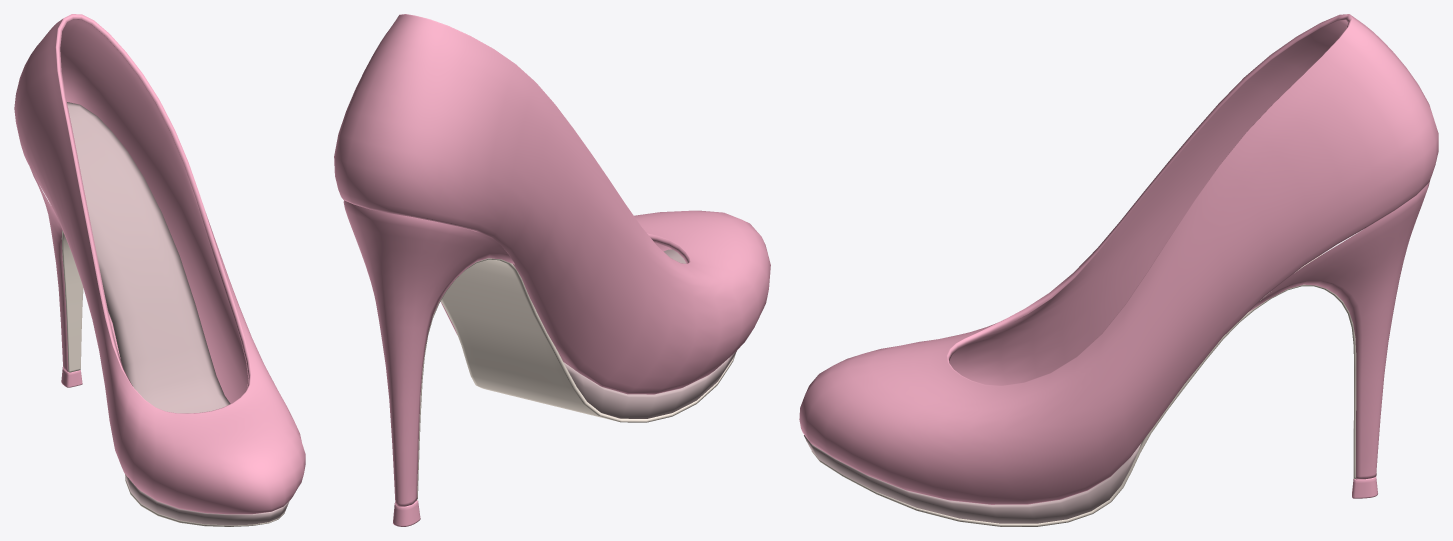
The model's file is classic-pump.glb.
The picture shows the model from 3 angles, left to right: view 1: azimuth 30°, elevation 25°; view 2: azimuth 150°, elevation 25°; view 3: azimuth 270°, elevation 25°; orthographic projection. The views are drawn at different scales.
Visible parts, largest first — view 1: upper, outsole, lining, forefoot-sole, source-heel; view 2: upper, source-heel, lining, forefoot-sole, source-cap; view 3: upper, source-heel, forefoot-sole, lining.
Part boxes in pixels (x1,y1,x2,y2): upper: (14,14,305,514); outsole: (67,102,230,413); lining: (61,230,285,526); forefoot-sole: (125,474,289,525); source-heel: (30,168,68,371); upper: (334,14,770,394); source-heel: (343,200,514,506); lining: (417,258,735,499); forefoot-sole: (563,351,736,418); source-cap: (393,500,420,526); upper: (799,14,1438,504); source-heel: (1249,180,1430,479); forefoot-sole: (804,435,1140,523); lining: (811,254,1356,526).
Size of the model in its own units: 1.15 by 2.45 by 3.
